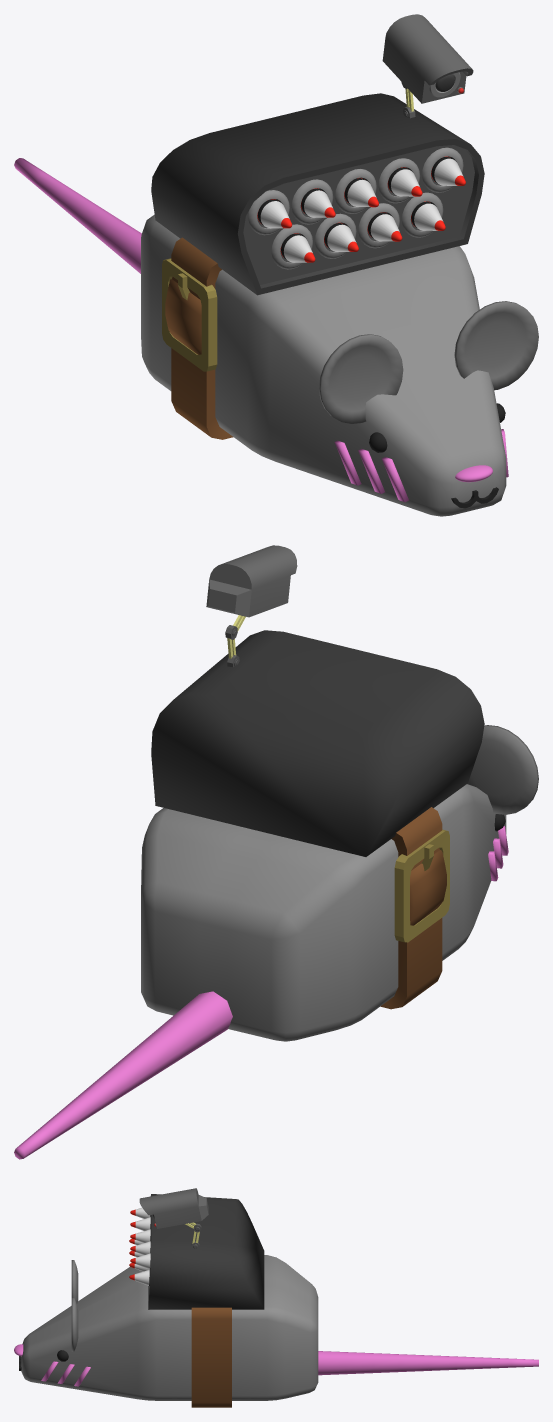
The model's file is missileMouse.fbx.
3 renders of one model, top to bottom at view 1: azimuth 30°, elevation 25°; view 2: azimuth 150°, elevation 25°; view 3: azimuth 270°, elevation 25°, orthographic. The views are drawn at different scales.
Visible parts, largest first — view 1: Missile Mouse; view 2: Missile Mouse; view 3: Missile Mouse.
Boxes of the visible parts, left/top/right/bottom form: Missile Mouse: left=14, top=14, right=538, bottom=516; Missile Mouse: left=14, top=545, right=538, bottom=1159; Missile Mouse: left=14, top=1188, right=538, bottom=1407.
Size of the model in its own units: 843 by 2704 by 1213.
